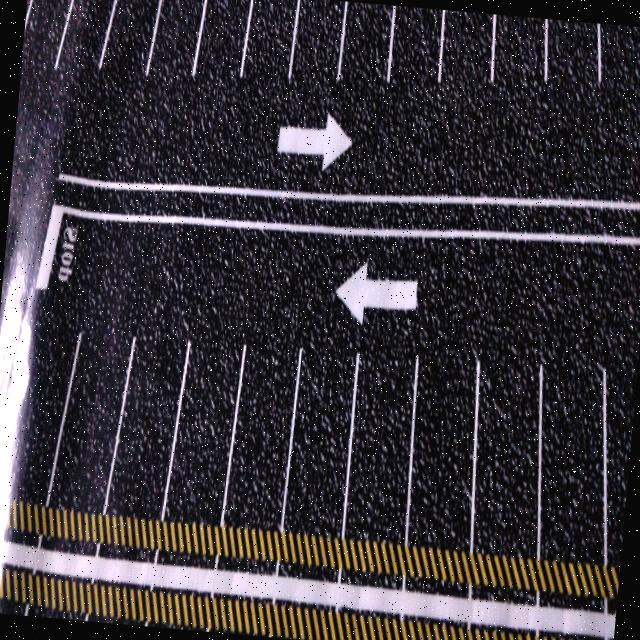slots: (50, 315, 131, 510), (107, 322, 186, 516), (164, 330, 242, 522), (408, 331, 475, 550), (346, 335, 415, 542), (285, 335, 355, 535), (0, 314, 74, 503), (224, 335, 297, 526), (540, 343, 603, 563), (474, 341, 538, 555)
